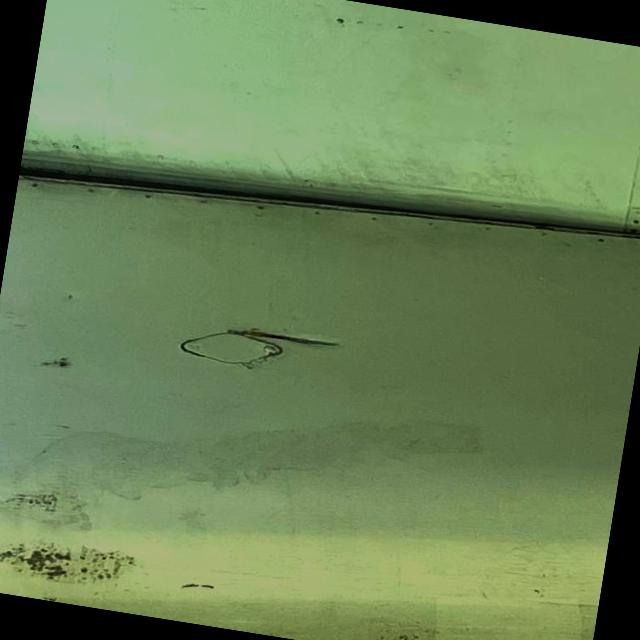crack: (228, 320, 342, 358)
